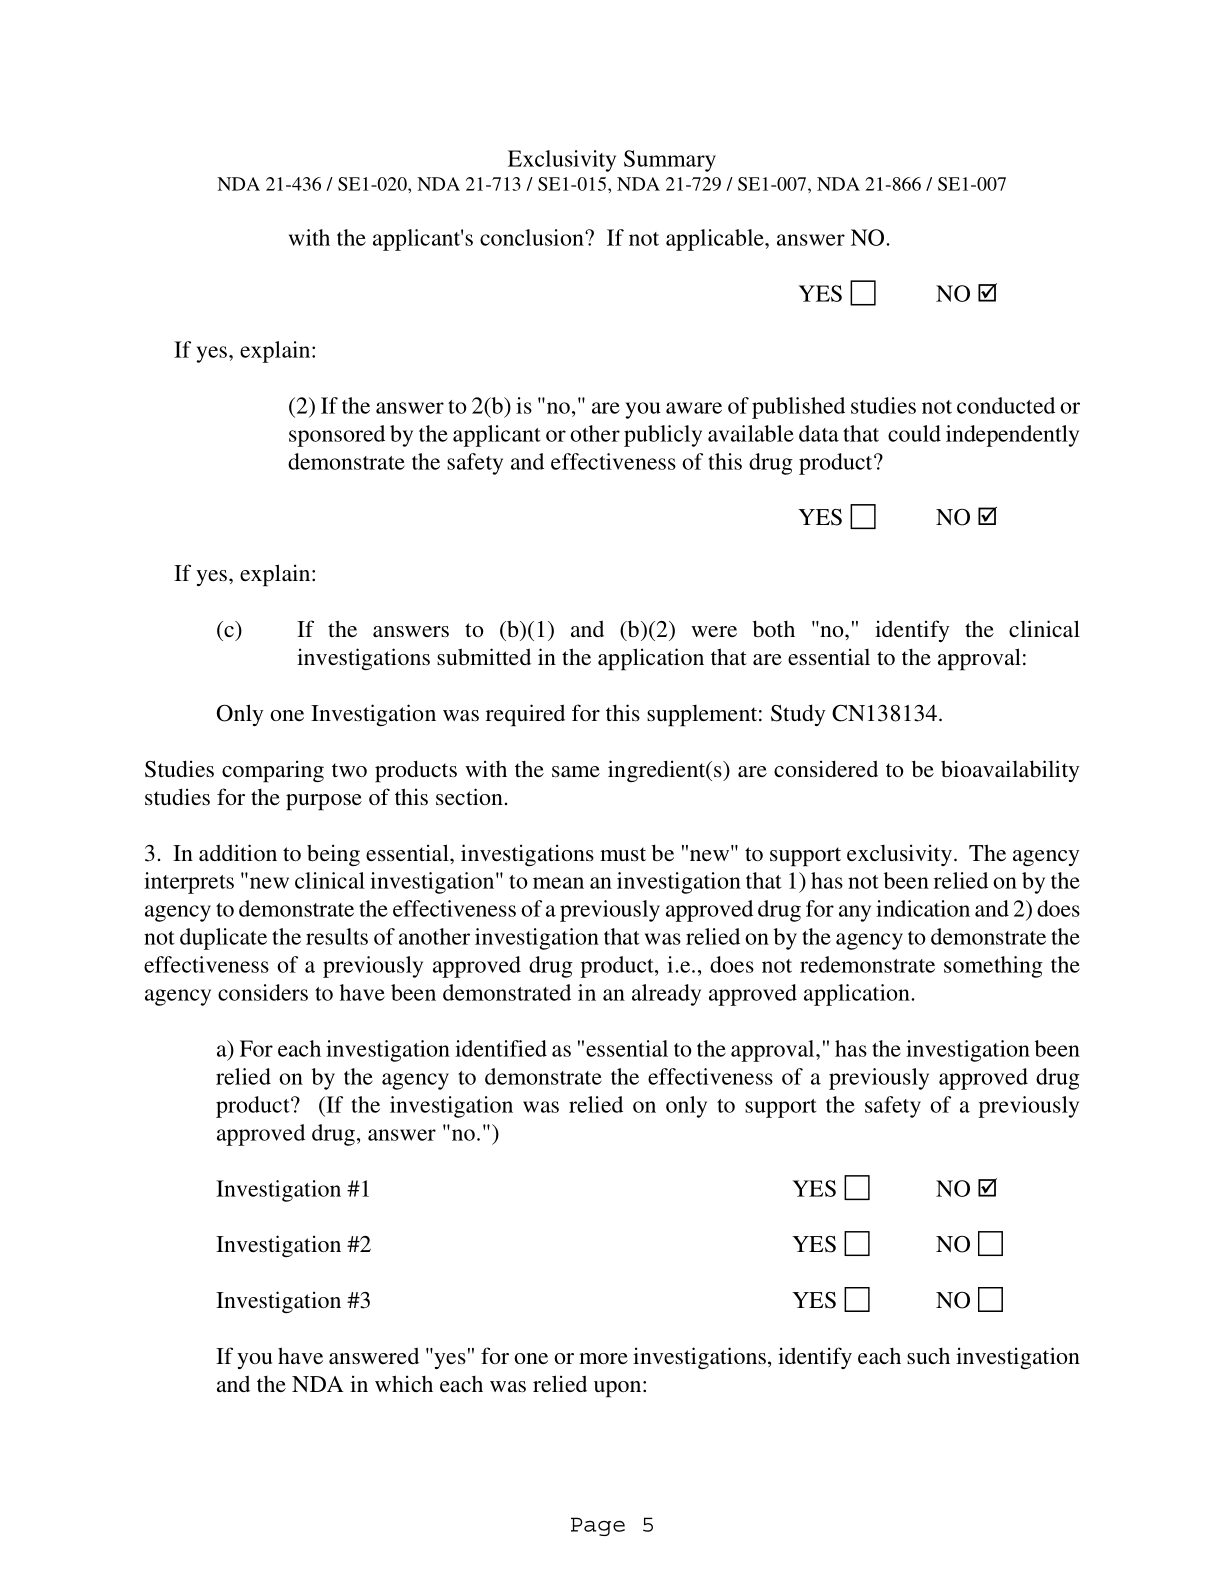nolines: (211, 1175, 1005, 1318)
